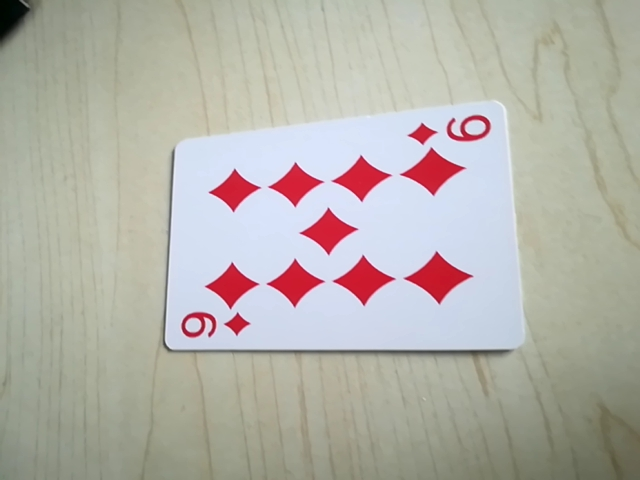fk 9: (406, 108, 498, 153), (175, 308, 253, 347)
